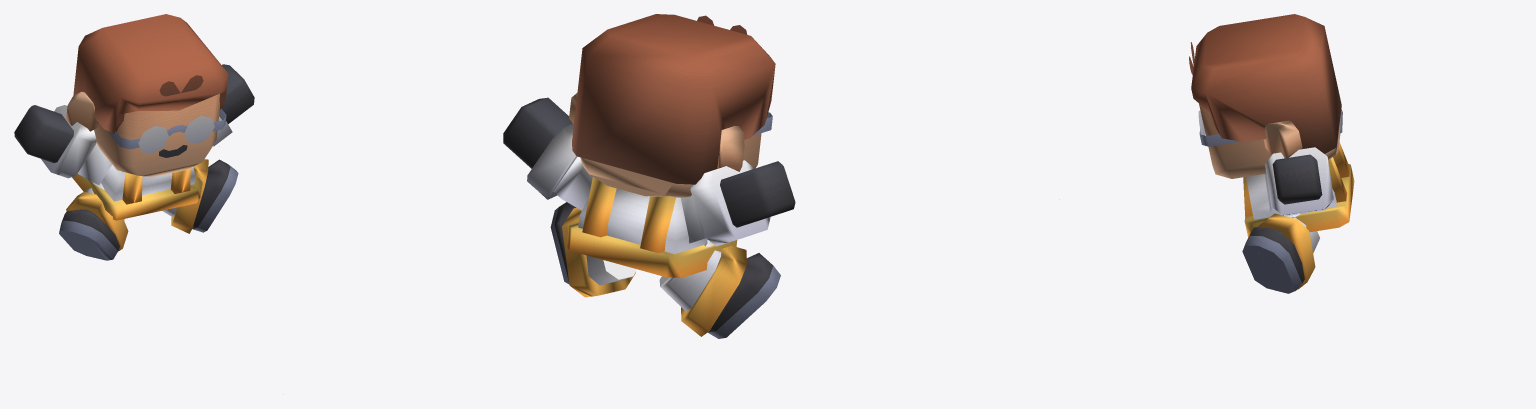
File: builder_fall_0.glb
3 views of the same model, side by side, from view 1: azimuth 30°, elevation 25°; view 2: azimuth 150°, elevation 25°; view 3: azimuth 270°, elevation 25° (orthographic). The views are drawn at different scales.
Parts seen in each view (by area): view 1: builder-fall-0; view 2: builder-fall-0; view 3: builder-fall-0.
Boxes of the visible parts, x1,y1,x2,y2 form: builder-fall-0: (14, 14, 254, 260); builder-fall-0: (503, 14, 795, 338); builder-fall-0: (1189, 14, 1354, 293).
Bounding box in the file's own units: 1.2 × 0.7572 × 1.2.
Materials: 1 (1 with a texture image).
